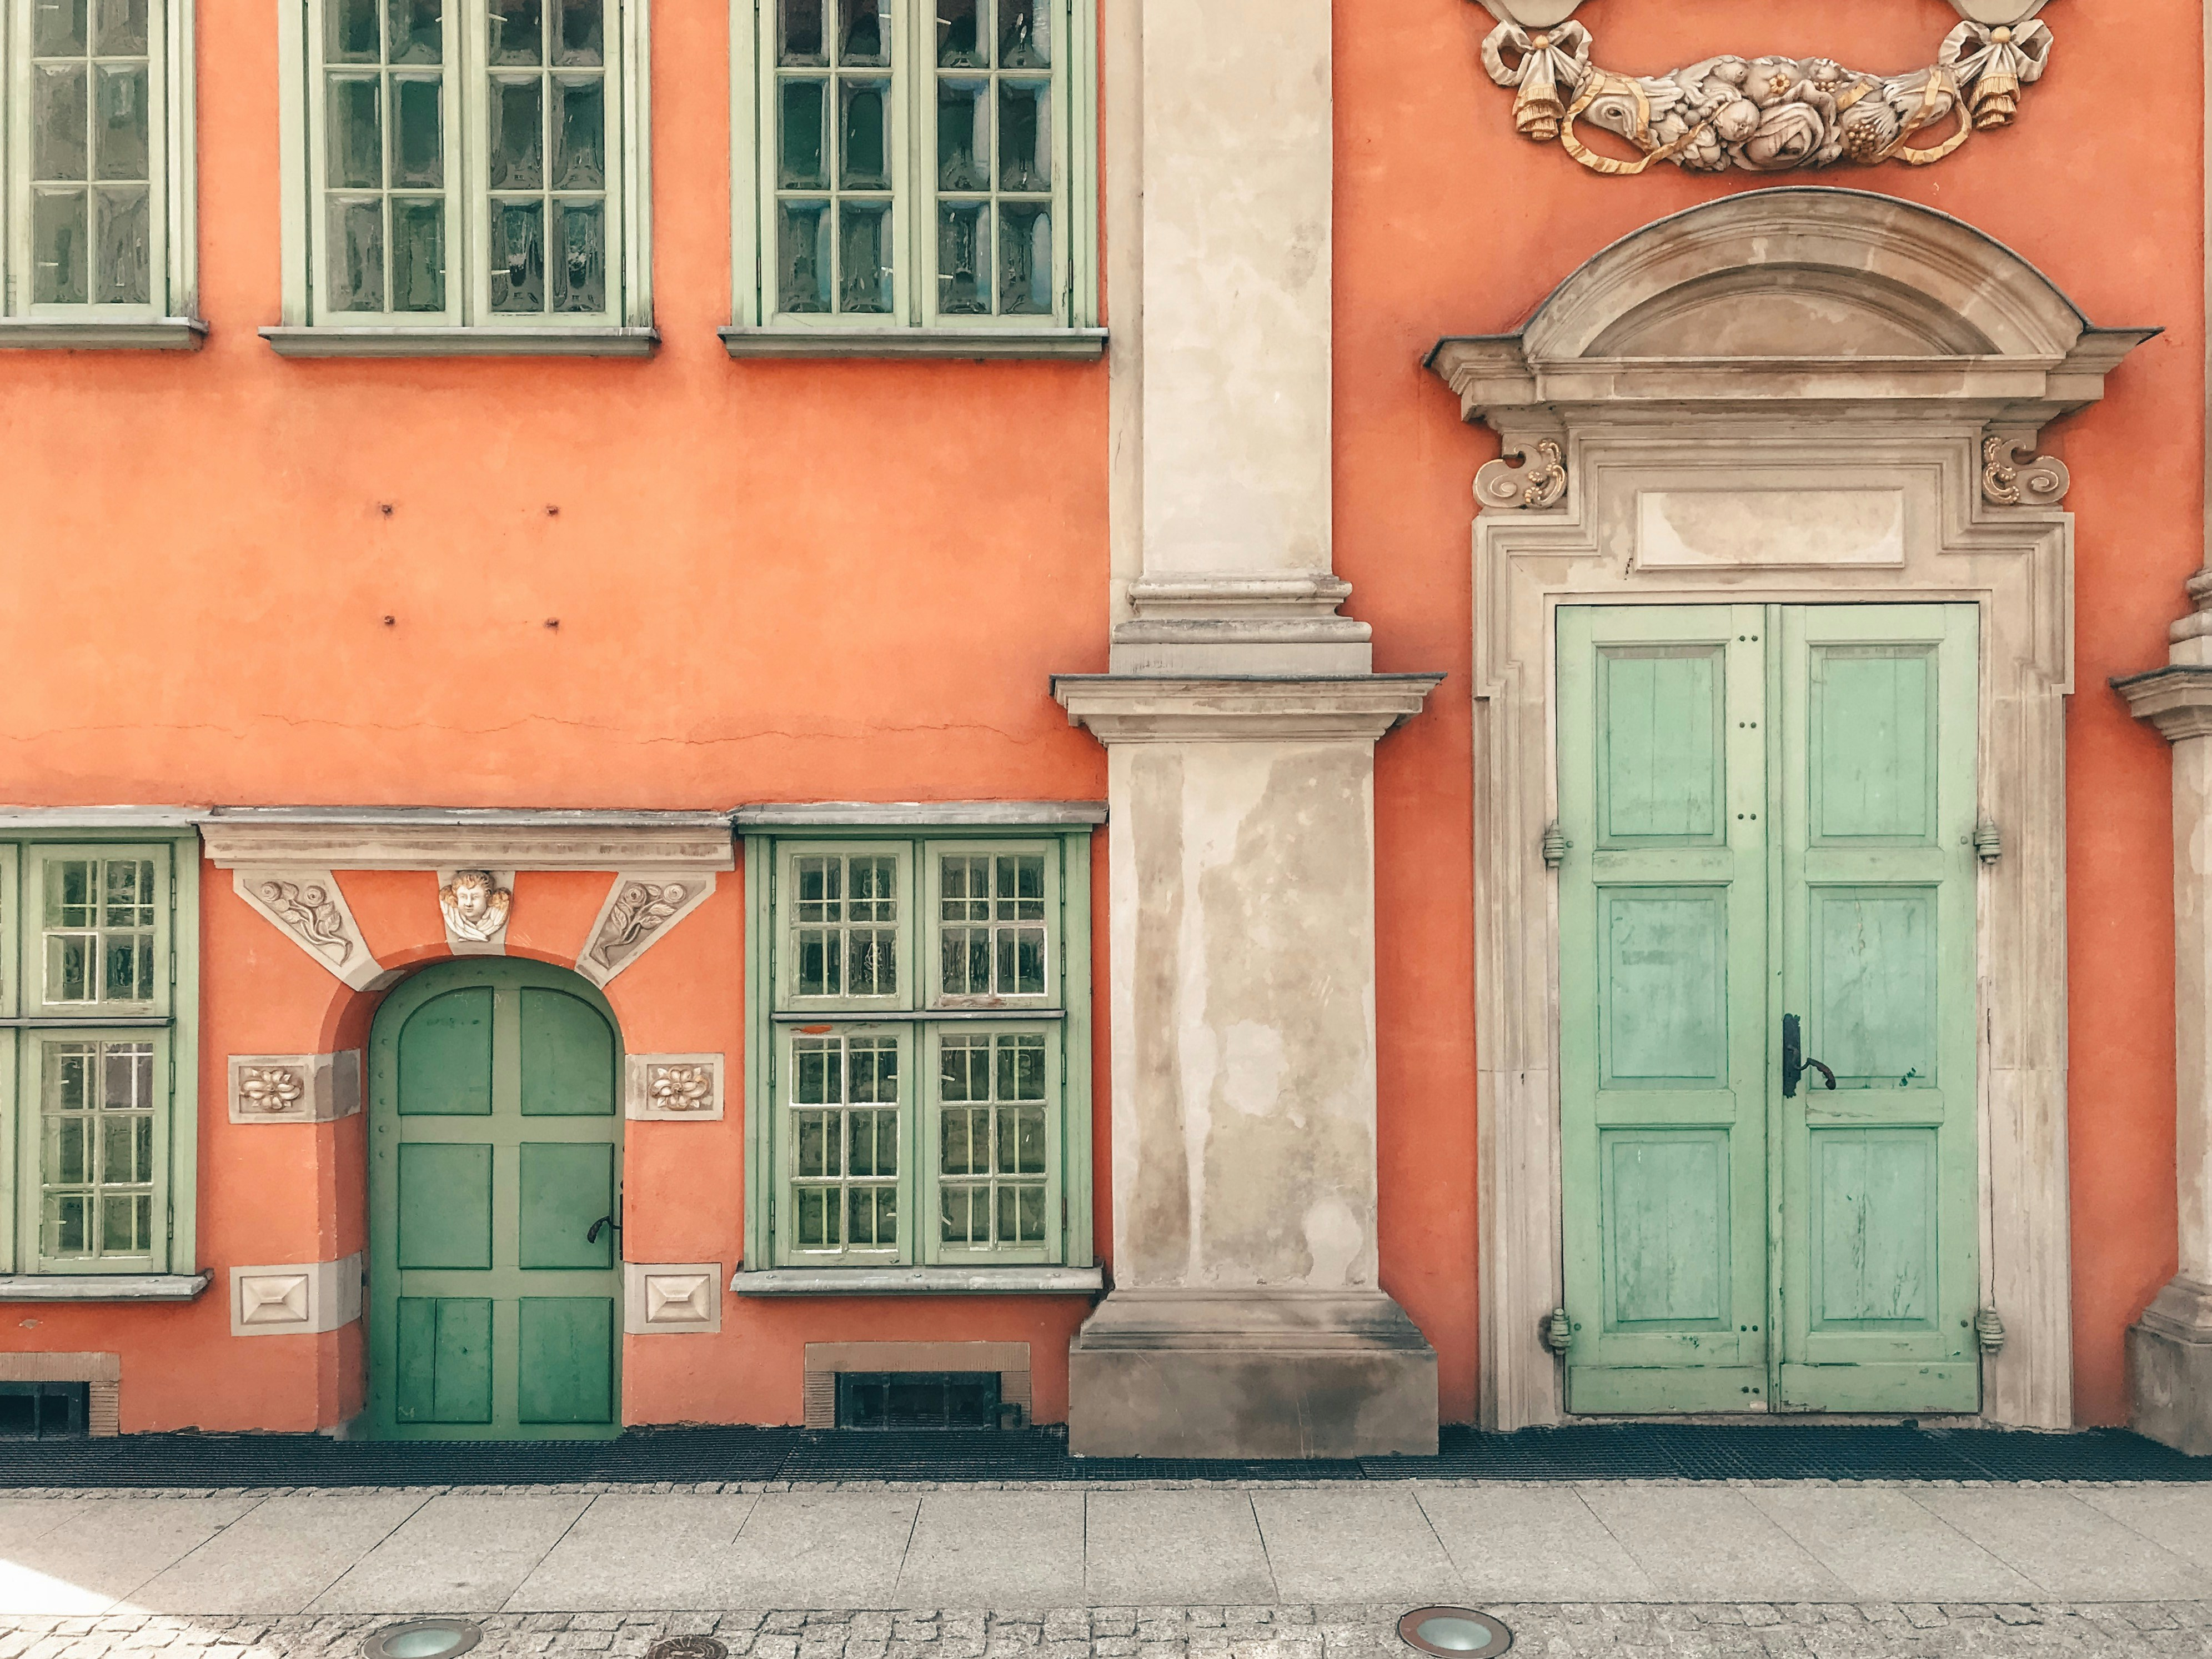door: (1480, 540, 2087, 1442), (315, 956, 647, 1463)
